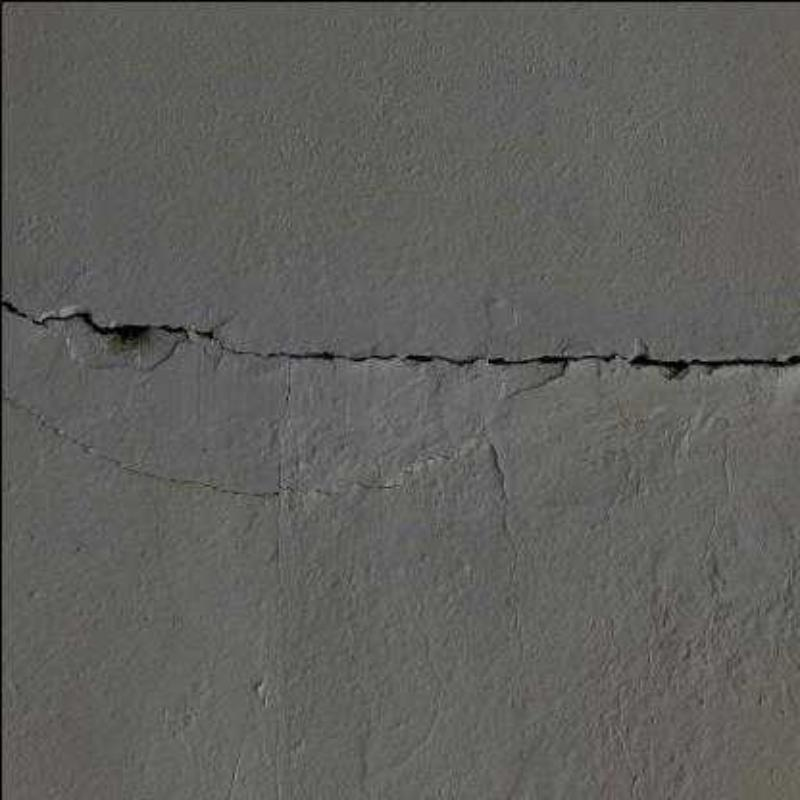crack: (2, 302, 798, 378), (502, 363, 568, 400)
